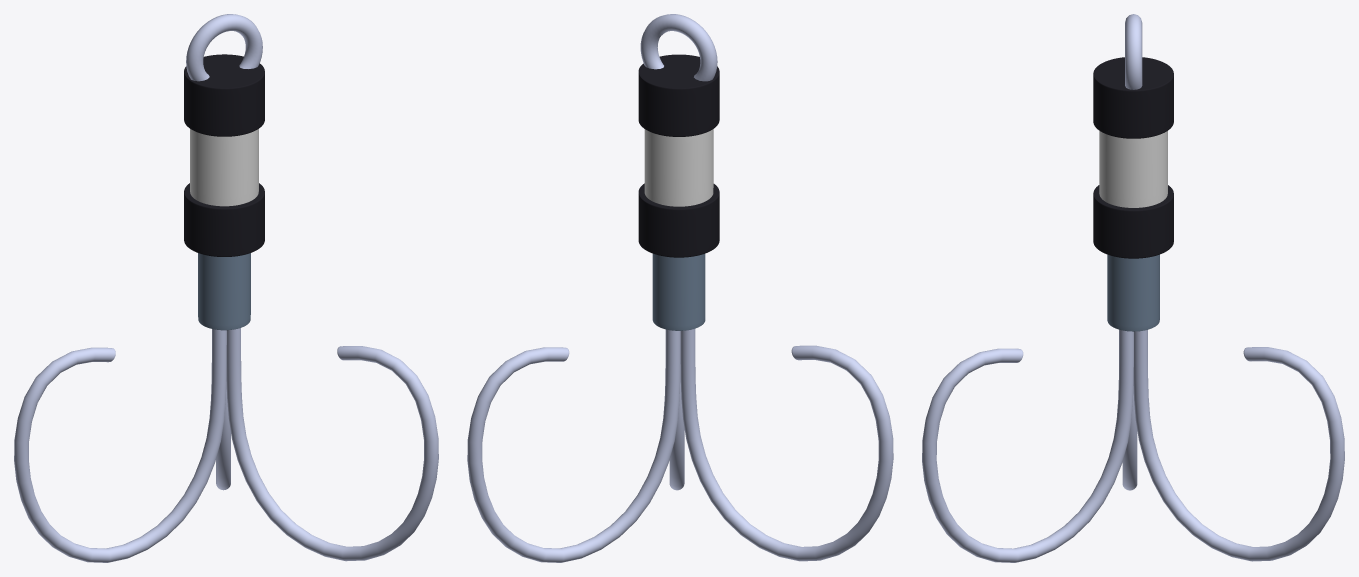
The model's file is Hook.fbx.
3 views of the same model, side by side, from view 1: azimuth 30°, elevation 25°; view 2: azimuth 150°, elevation 25°; view 3: azimuth 270°, elevation 25° (orthographic).
Visible parts, largest first — view 1: Cylinder.011, Cylinder.012, Cylinder.015, Cylinder.017, Cylinder.019, Cylinder.014, Torus.004, Cylinder.013; view 2: Cylinder.013, Cylinder.011, Cylinder.015, Cylinder.017, Cylinder.019, Cylinder.014, Torus.004, Cylinder.012; view 3: Cylinder.012, Cylinder.013, Cylinder.015, Cylinder.017, Cylinder.019, Cylinder.014, Torus.004, Cylinder.011.
Boxes of the visible parts, x1,y1,x2,y2 form: Cylinder.011: [14, 329, 226, 562]; Cylinder.012: [226, 328, 438, 561]; Cylinder.015: [184, 54, 264, 136]; Cylinder.017: [190, 129, 258, 206]; Cylinder.019: [184, 183, 264, 256]; Cylinder.014: [198, 253, 250, 330]; Torus.004: [186, 14, 262, 81]; Cylinder.013: [216, 382, 230, 490]; Cylinder.013: [467, 329, 680, 562]; Cylinder.011: [680, 328, 893, 561]; Cylinder.015: [638, 54, 719, 136]; Cylinder.017: [644, 129, 713, 206]; Cylinder.019: [638, 183, 719, 257]; Cylinder.014: [652, 253, 705, 330]; Torus.004: [640, 14, 717, 81]; Cylinder.012: [669, 364, 684, 490]; Cylinder.012: [922, 329, 1133, 562]; Cylinder.013: [1133, 330, 1344, 561]; Cylinder.015: [1093, 57, 1173, 138]; Cylinder.017: [1099, 131, 1167, 207]; Cylinder.019: [1093, 185, 1173, 258]; Cylinder.014: [1107, 254, 1159, 331]; Torus.004: [1125, 14, 1142, 89]; Cylinder.011: [1122, 386, 1137, 490].
Size of the model in its own units: 122 by 187 by 139.
